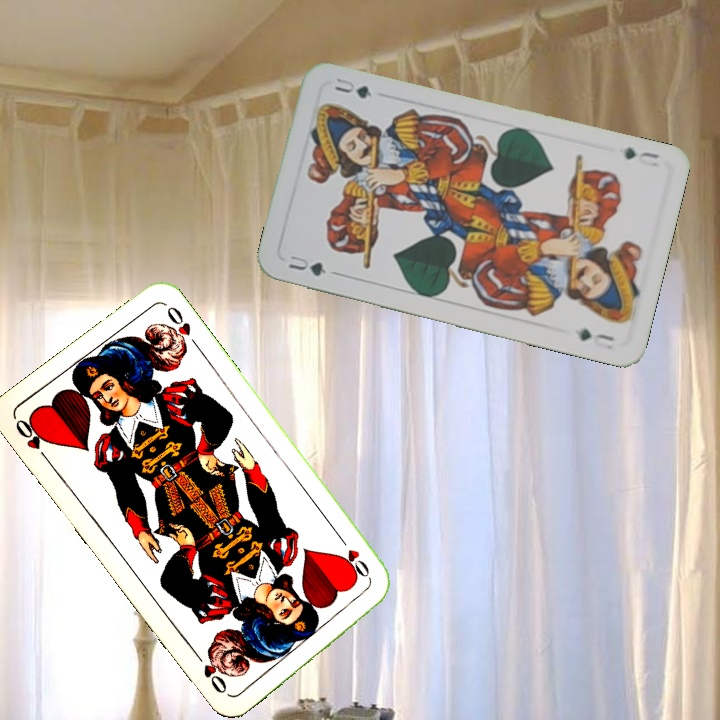GU: (284, 251, 329, 279), (620, 143, 662, 162)
HO: (11, 413, 53, 465), (335, 534, 375, 587)
